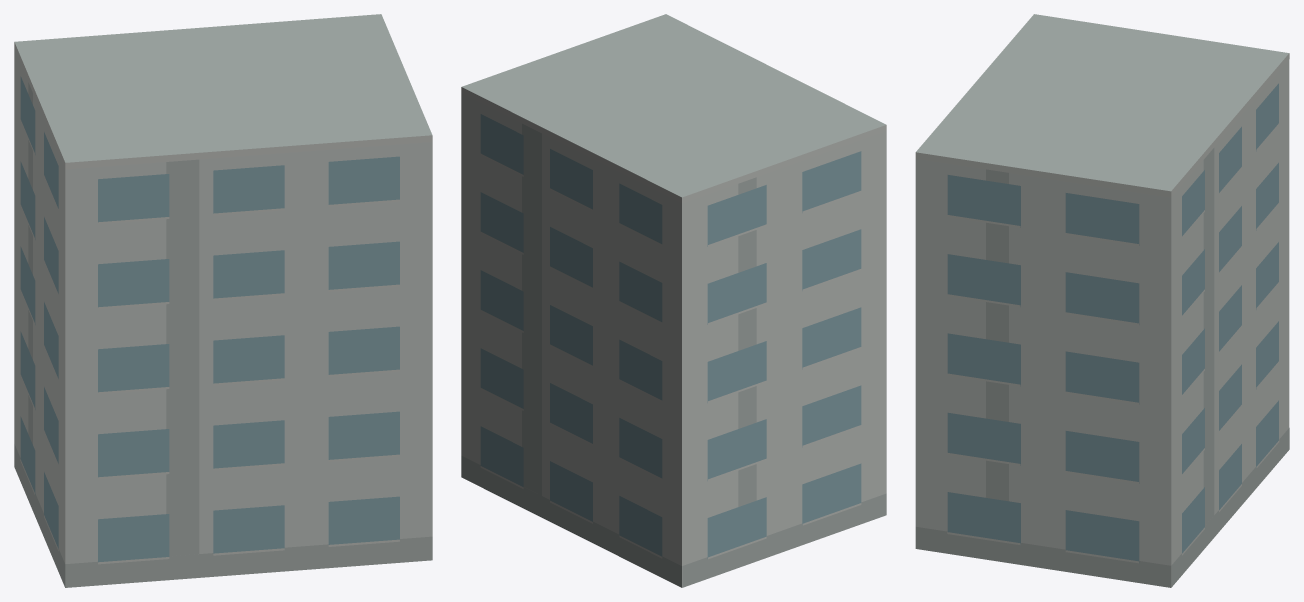
Rendered from residential-786ec437-8b77-4bbf-ad26-26f16e125d75.glb.
3 views of the same model, side by side, from view 1: azimuth 30°, elevation 25°; view 2: azimuth 150°, elevation 25°; view 3: azimuth 270°, elevation 25° (orthographic). The views are drawn at different scales.
Parts seen in each view (by area): view 1: residential-786ec437-8b77-4bbf-ad26-26f16e125d75.tmp; view 2: residential-786ec437-8b77-4bbf-ad26-26f16e125d75.tmp; view 3: residential-786ec437-8b77-4bbf-ad26-26f16e125d75.tmp.
Boxes of the visible parts, <box> form: residential-786ec437-8b77-4bbf-ad26-26f16e125d75.tmp: <box>14,14,432,587</box>; residential-786ec437-8b77-4bbf-ad26-26f16e125d75.tmp: <box>461,14,886,587</box>; residential-786ec437-8b77-4bbf-ad26-26f16e125d75.tmp: <box>915,14,1289,587</box>.
Size of the model in its own units: 14.64 by 15.25 by 13.04.
